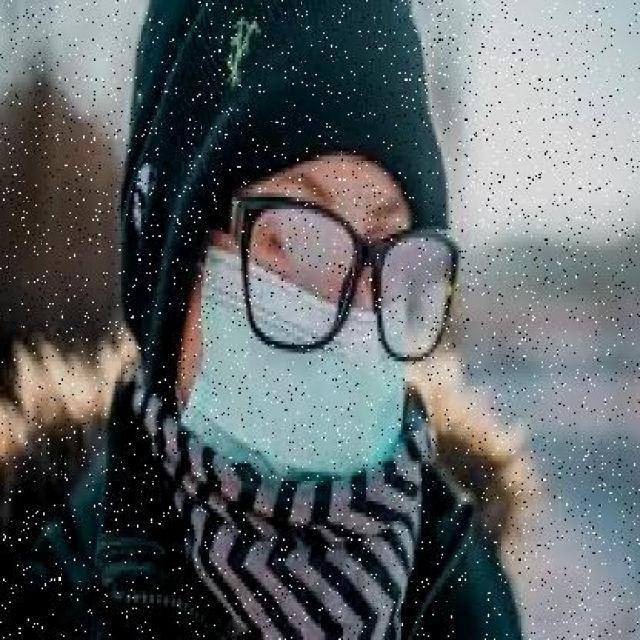glasses: (223, 172, 468, 370)
